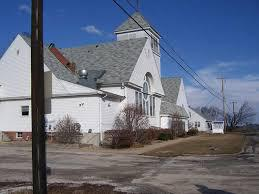affected: (0, 9, 235, 142)
